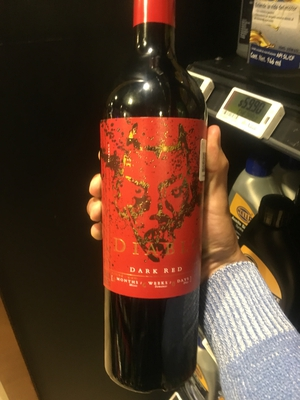diablo dark red: (96, 14, 217, 388)
